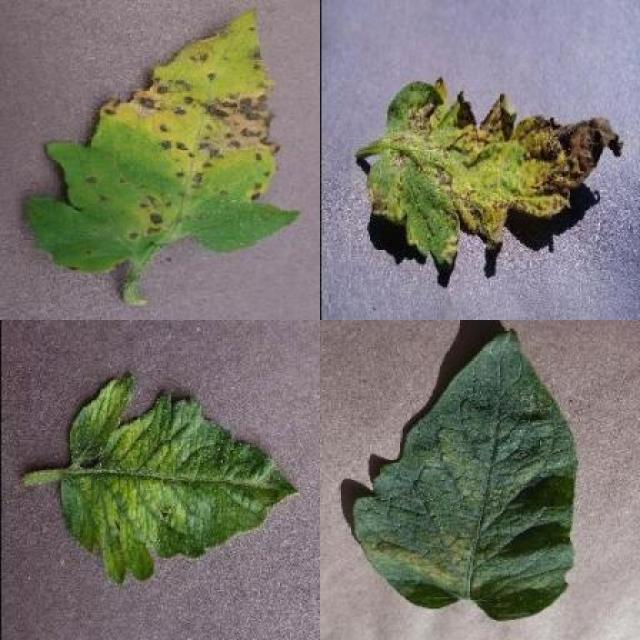Mosaic Virus: (60, 370, 300, 587)
Septoria: (27, 7, 302, 274), (369, 80, 624, 266)
Spider Mites: (354, 328, 580, 618)
